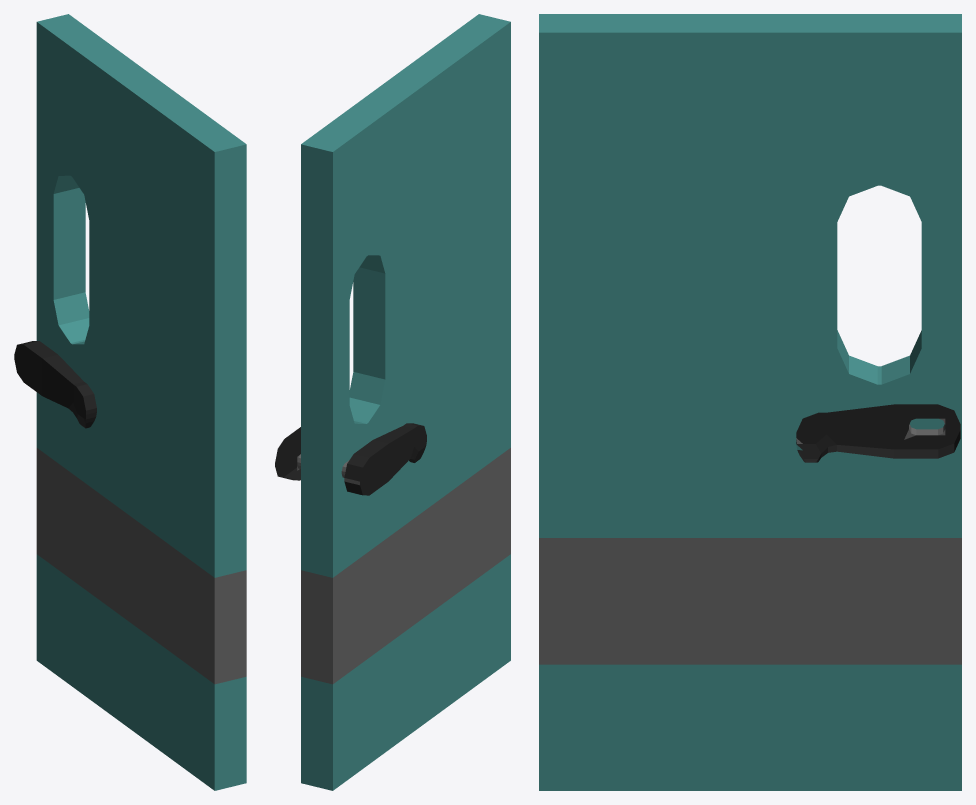
File: puerta der.fbx
The picture shows the model from 3 angles, left to right: view 1: azimuth 30°, elevation 25°; view 2: azimuth 150°, elevation 25°; view 3: azimuth 270°, elevation 25°; orthographic projection. The views are drawn at different scales.
Visible parts, largest first — view 1: Cube; view 2: Cube; view 3: Cube.
Part boxes in pixels (x1,y1,x2,y2): Cube: (14, 14, 246, 790); Cube: (275, 14, 510, 790); Cube: (539, 14, 961, 790).
Bounding box in the file's own units: 115 × 842 × 426.
